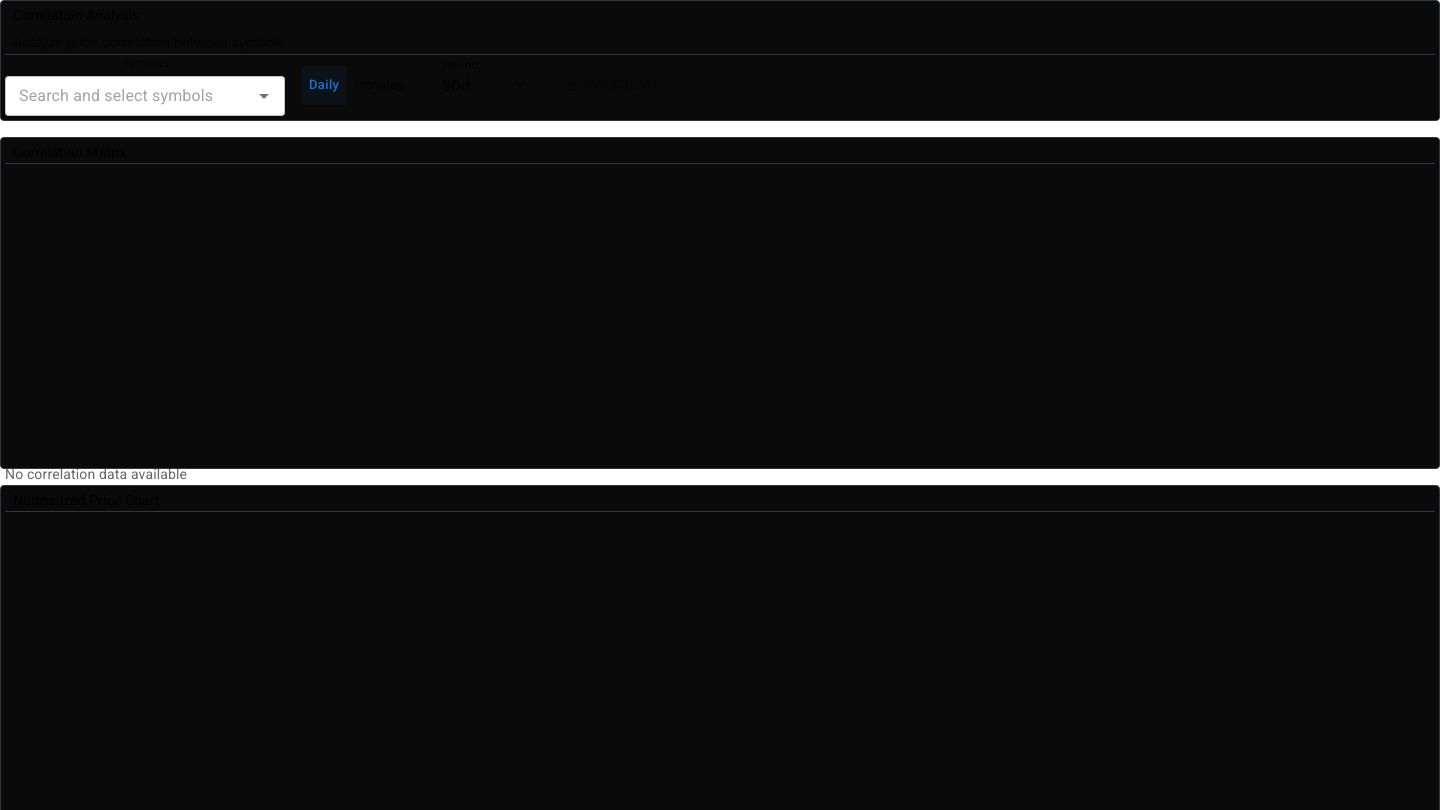
CorrelationTab › keeps the typed symbol query after results resolve
Type "REL" into the dropdown with placeholder "Search and select symbols" at (128, 96), box x1=11 y1=82 x2=246 y2=110
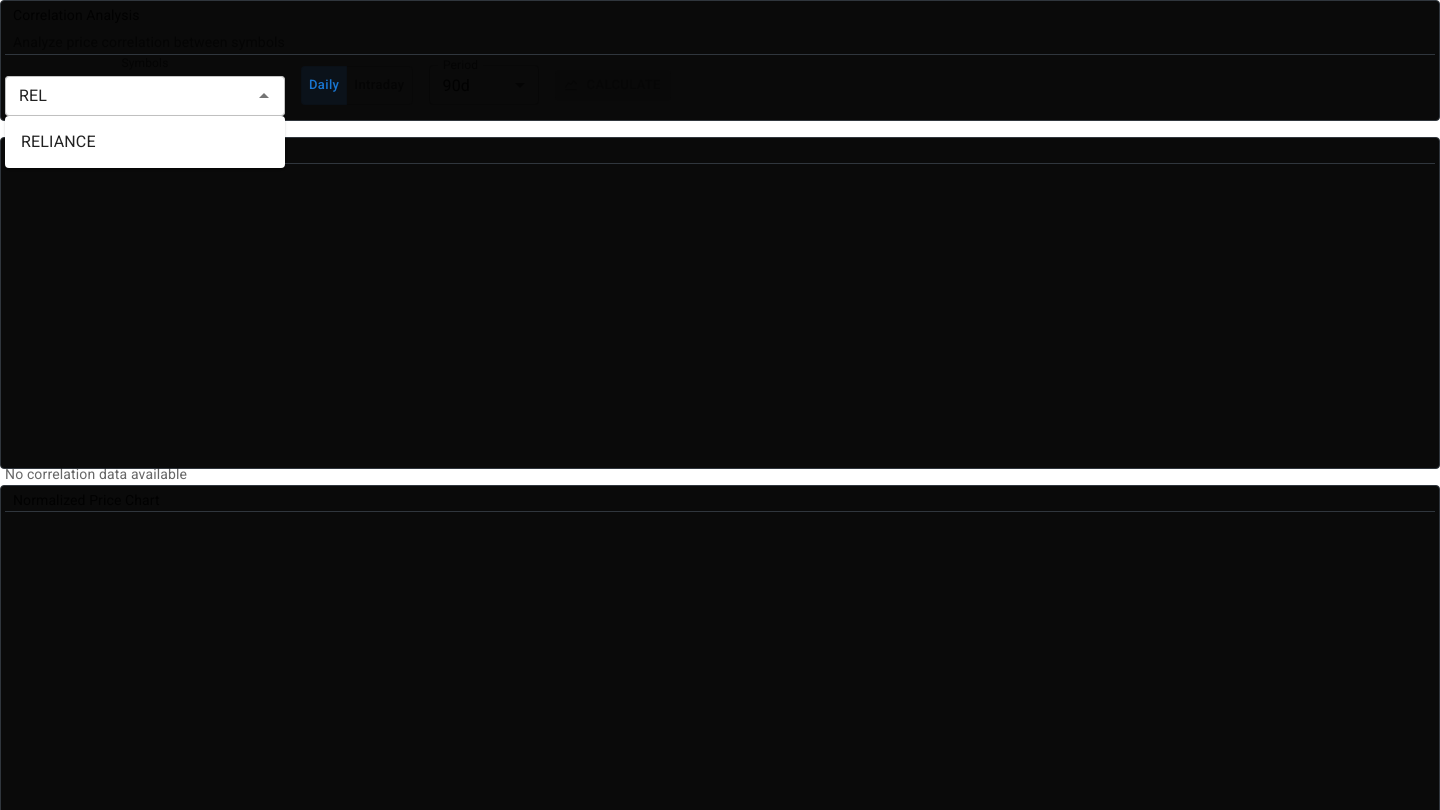
Check: the option "RELIANCE" is shown, box x1=21 y1=132 x2=96 y2=151
